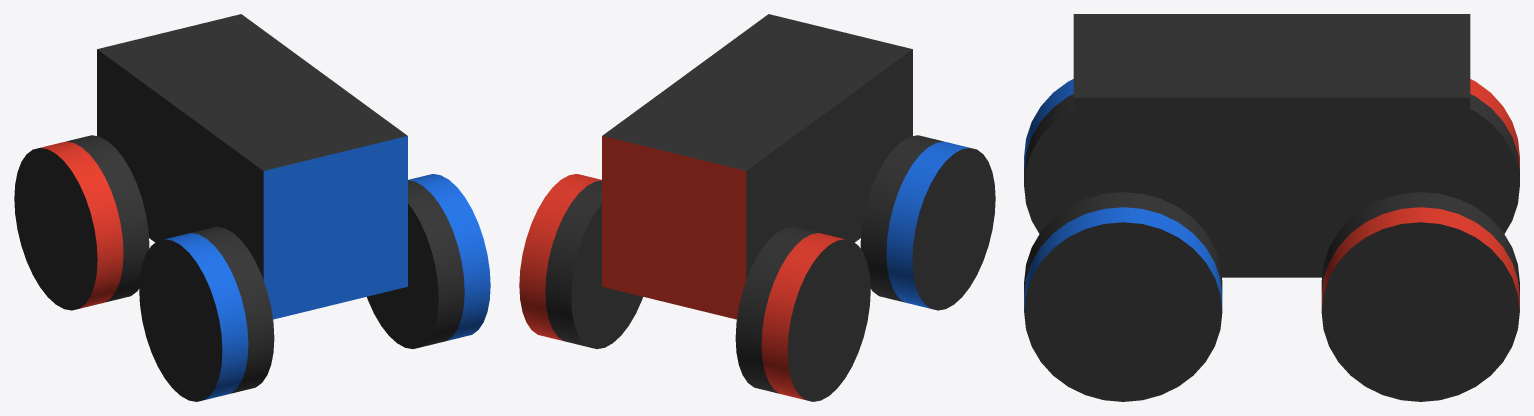
File: car_colliders.glb
The picture shows the model from 3 angles, left to right: view 1: azimuth 30°, elevation 25°; view 2: azimuth 150°, elevation 25°; view 3: azimuth 270°, elevation 25°; orthographic projection. The views are drawn at different scales.
Visible parts, largest first — view 1: car_body, wheel_right_front, wheel_right_rear, wheel_left_front; view 2: car_body, wheel_right_rear, wheel_right_front, wheel_left_rear; view 3: car_body, wheel_left_front, wheel_left_rear, wheel_right_front, wheel_right_rear.
Boxes of the visible parts, x1=… form: car_body: x1=97, y1=14, x2=407, y2=319; wheel_right_front: x1=139, y1=226, x2=274, y2=401; wheel_right_rear: x1=14, y1=135, x2=149, y2=310; wheel_left_front: x1=367, y1=174, x2=490, y2=348; car_body: x1=602, y1=14, x2=912, y2=319; wheel_right_rear: x1=735, y1=226, x2=870, y2=401; wheel_right_front: x1=860, y1=135, x2=995, y2=310; wheel_left_rear: x1=519, y1=174, x2=642, y2=348; car_body: x1=1073, y1=14, x2=1470, y2=277; wheel_left_front: x1=1024, y1=192, x2=1222, y2=401; wheel_left_rear: x1=1321, y1=192, x2=1519, y2=401; wheel_right_front: x1=1024, y1=79, x2=1073, y2=233; wheel_right_rear: x1=1470, y1=79, x2=1519, y2=233.
Size of what is drawn, in the model's own units: 3.72 by 2.98 by 5.
